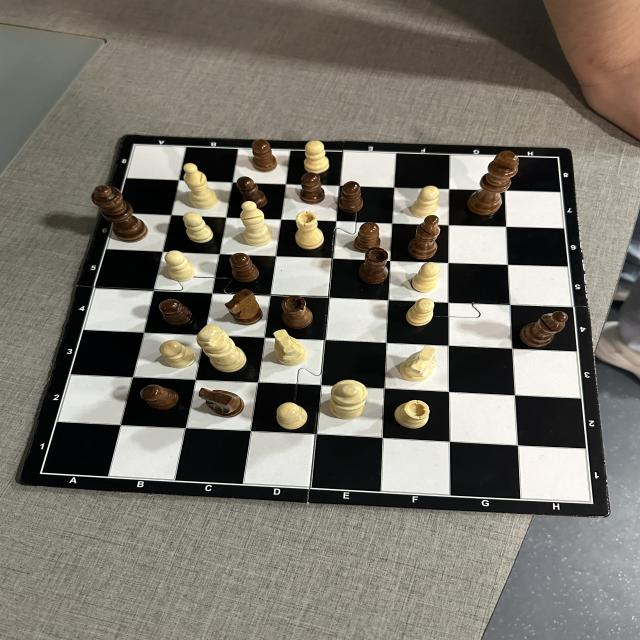Black-Bishop: (519, 310, 569, 348), (407, 215, 441, 260)
Black-King: (466, 150, 520, 216)
Black-Knight: (224, 289, 264, 326), (198, 388, 245, 418)
Black-Pawn: (140, 384, 180, 410), (237, 176, 268, 208), (158, 298, 192, 326), (251, 139, 278, 172), (229, 253, 259, 282), (299, 172, 325, 205), (338, 181, 364, 213), (354, 222, 381, 252)
Black-Queen: (91, 185, 149, 243)
Black-Rook: (358, 247, 389, 284), (281, 295, 313, 329)
White-Bishop: (184, 163, 218, 210), (240, 200, 273, 247)
White-King: (196, 325, 248, 373)
White-Knight: (399, 346, 437, 382), (273, 329, 308, 366)
White-Pawn: (160, 340, 197, 369), (182, 212, 214, 243), (410, 186, 440, 218), (165, 250, 195, 282), (411, 262, 441, 293), (276, 402, 308, 430), (304, 140, 330, 174), (406, 298, 434, 327)
White-Queen: (328, 379, 368, 420)
White-Rook: (294, 210, 324, 250), (394, 400, 430, 429)
